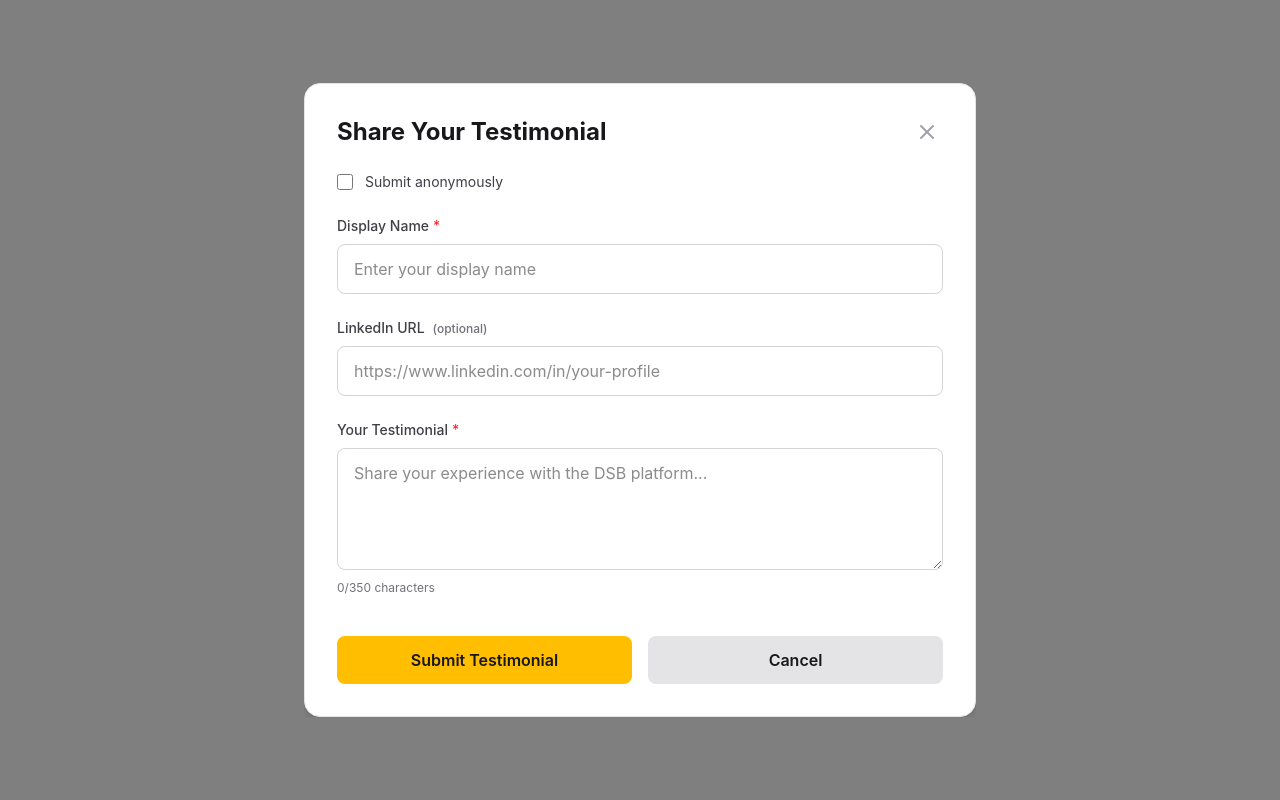
Scenario: surfaces a submit error from the API
Check: the button "Submit Testimonial" is shown, box [337,636,632,684]
Type "Ada" into the field with id "displayName" at [640, 269], box [337,244,943,294]
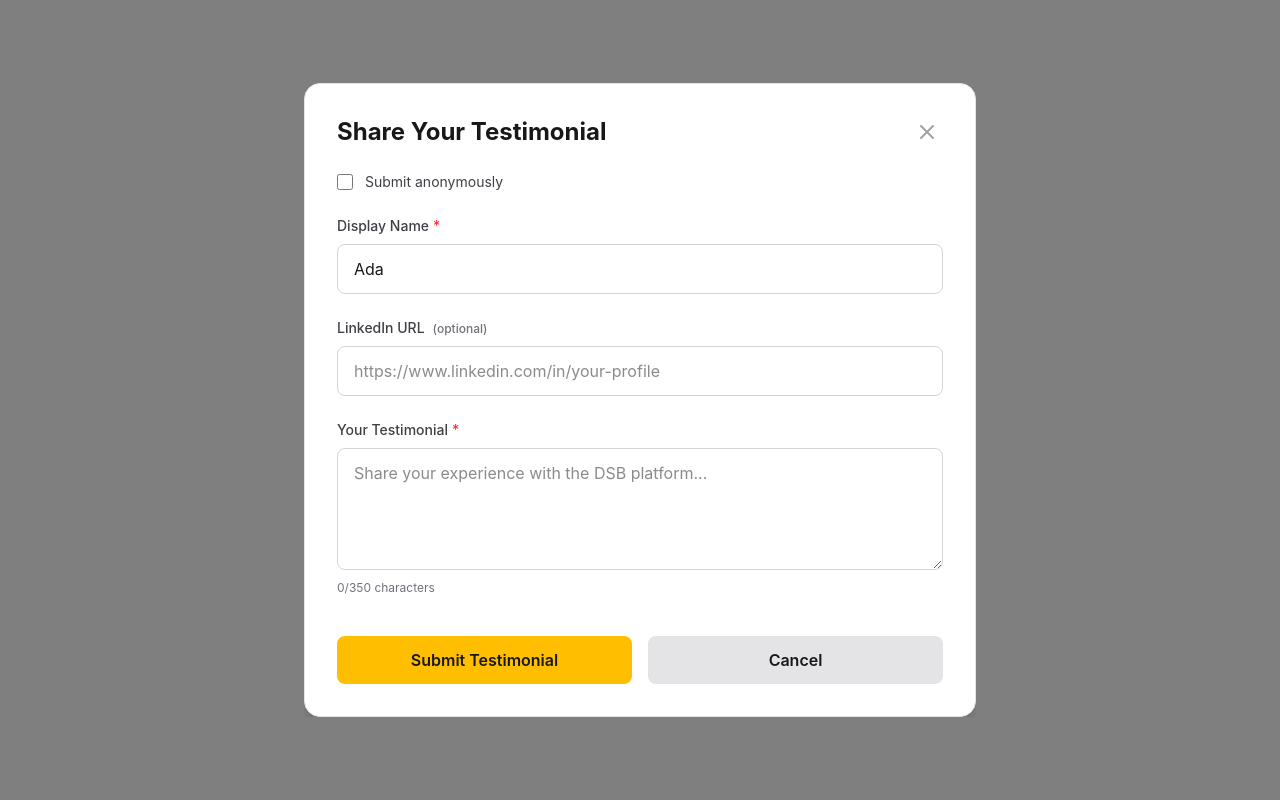
Type "A perfectly valid testimonial quote." into the text box labelled "Your Testimonial*" at [640, 509], box [337,448,943,570]
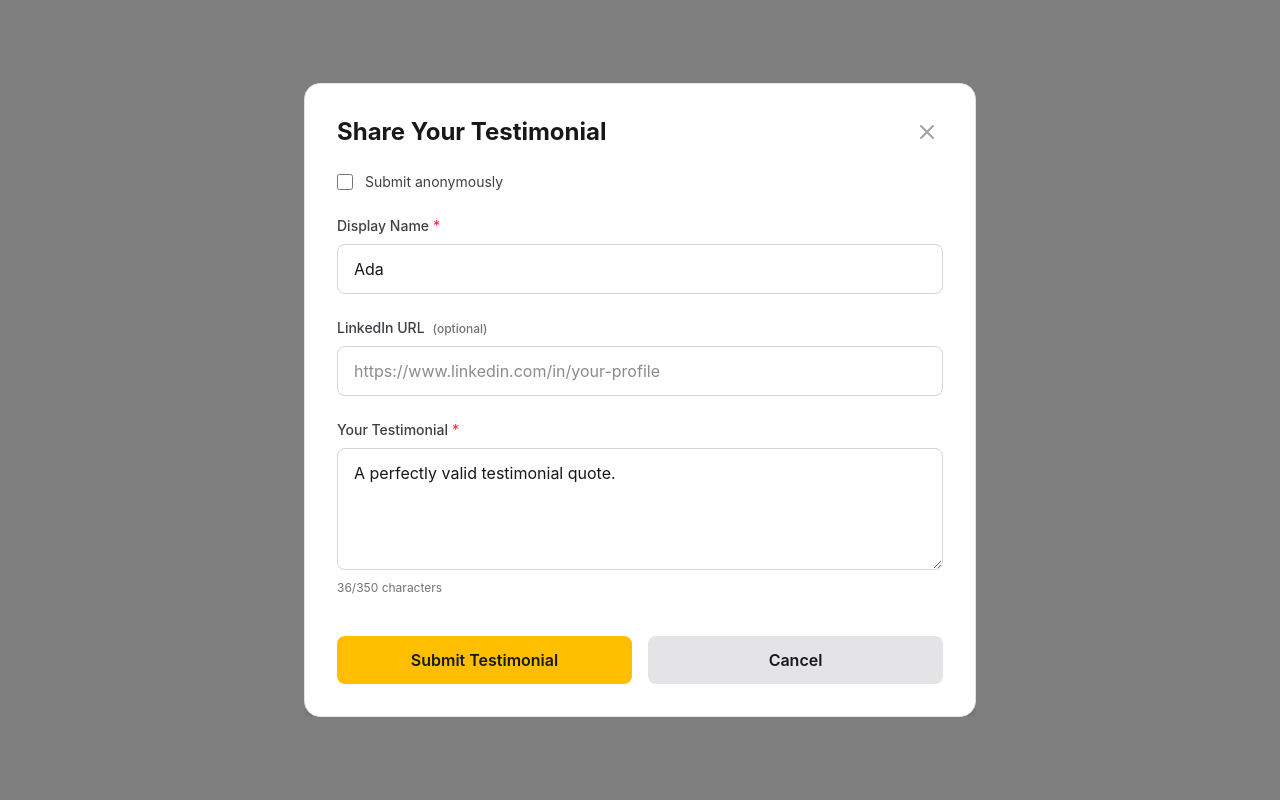
Click the button "Submit Testimonial" at [484, 660], box [337,636,632,684]
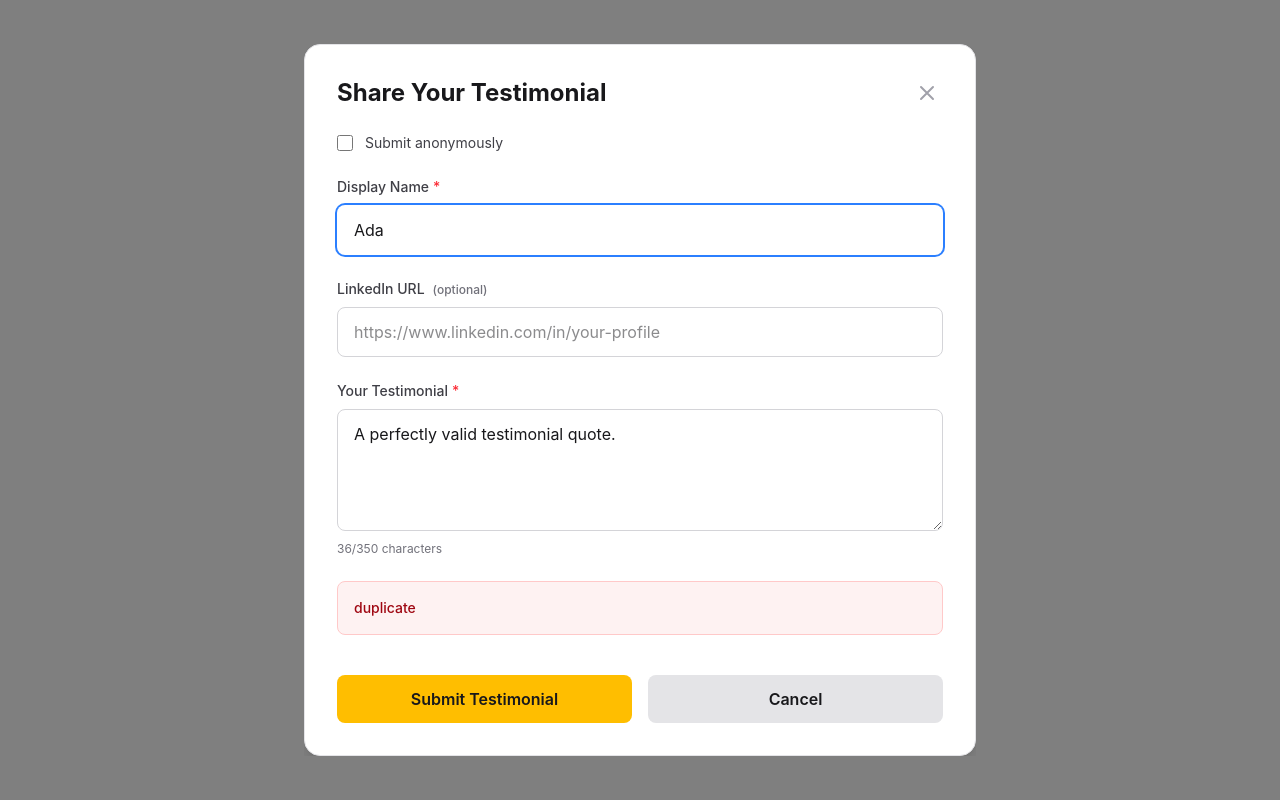
Check: the text "duplicate" is shown, box [354,599,416,616]
